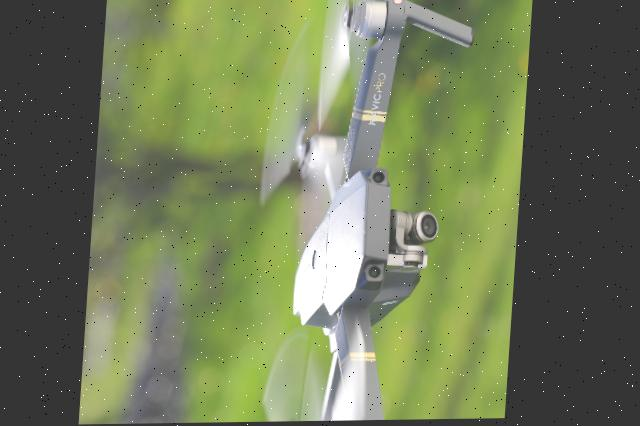drone: (250, 0, 490, 423)
